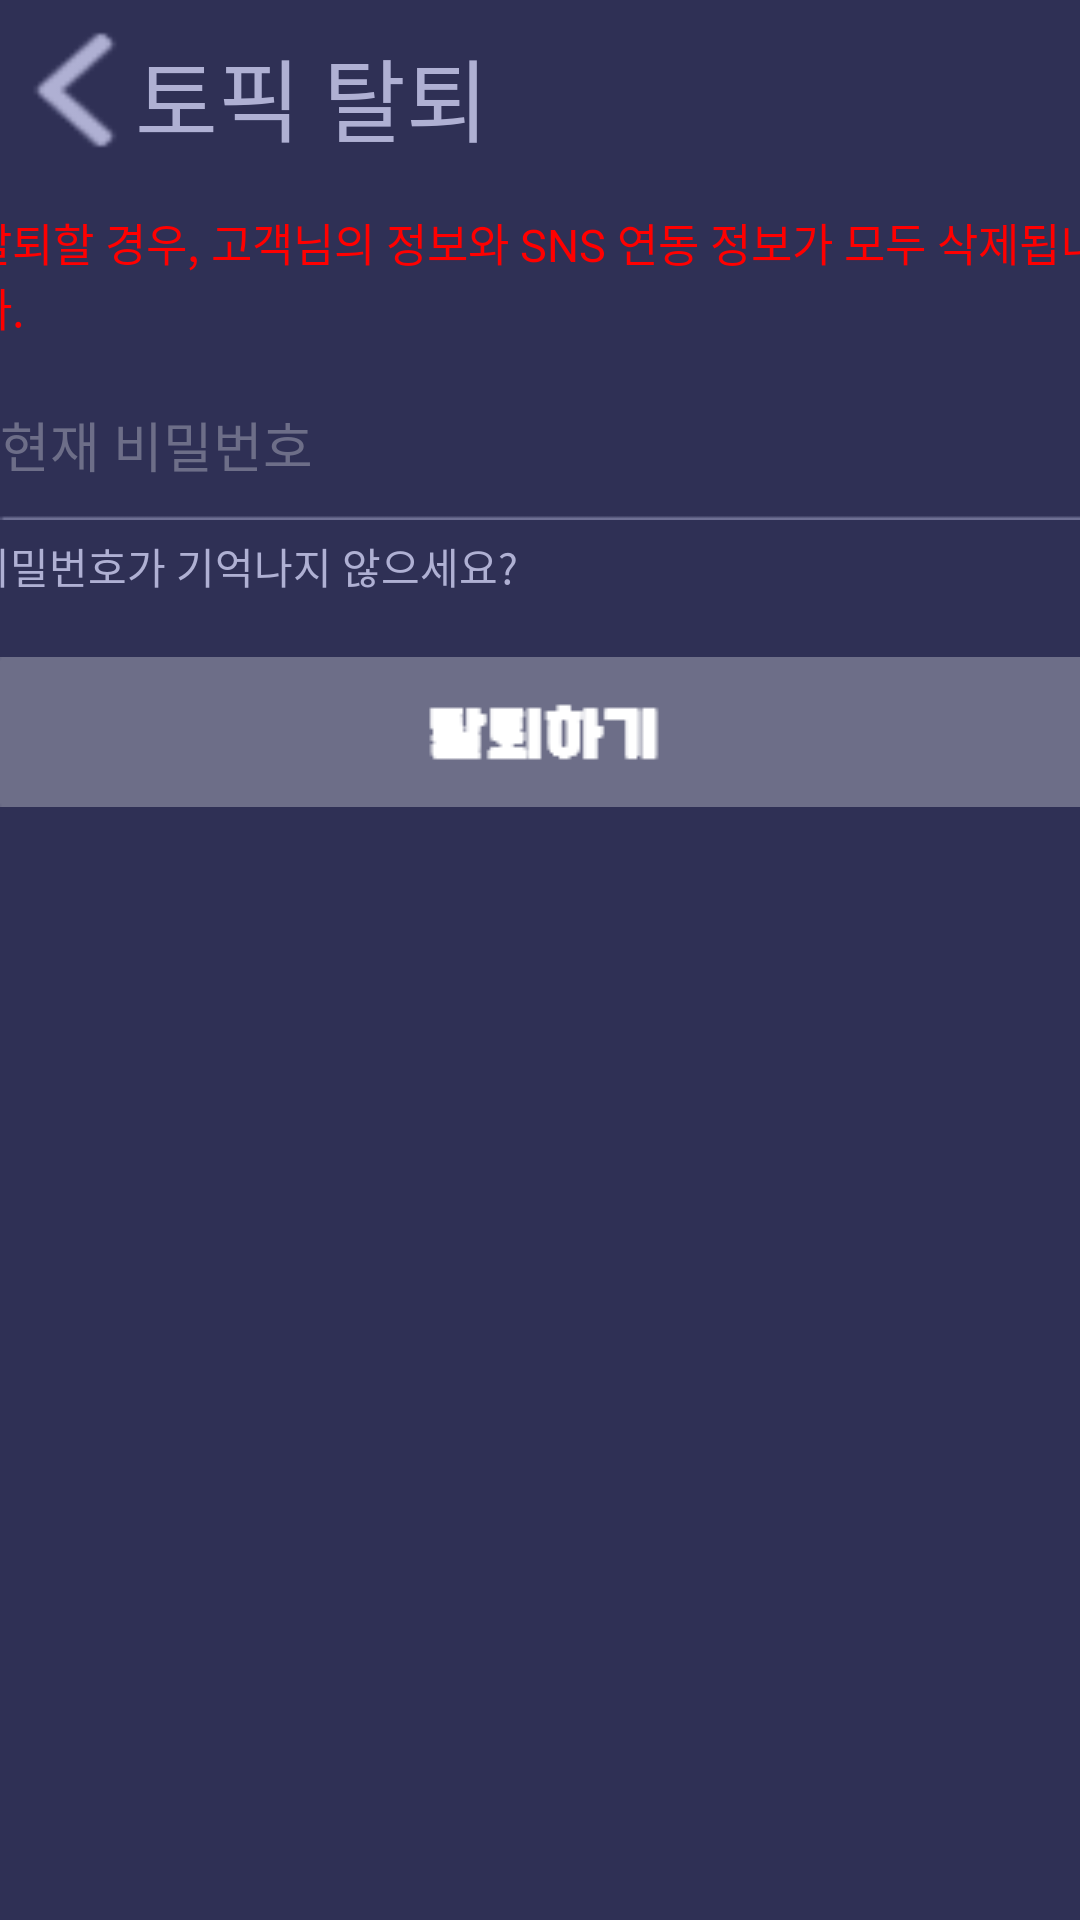

Locate icon controls on the screen. Image size 1080*1920, boxes as bbox(x1, y1, x2, y2).
back: bbox(36, 33, 114, 147)
